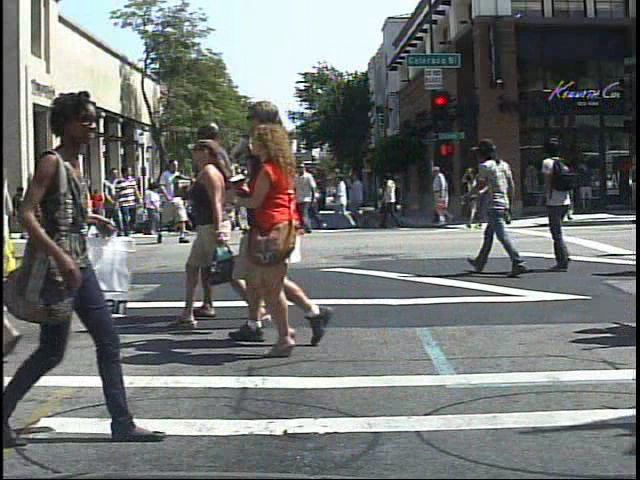person: (1, 79, 135, 451), (222, 92, 334, 344), (235, 119, 334, 357), (535, 132, 594, 277), (473, 128, 524, 280), (154, 157, 192, 247), (51, 165, 81, 246), (112, 161, 141, 244), (427, 160, 458, 232), (98, 163, 126, 242), (29, 183, 53, 244), (89, 183, 109, 222)
